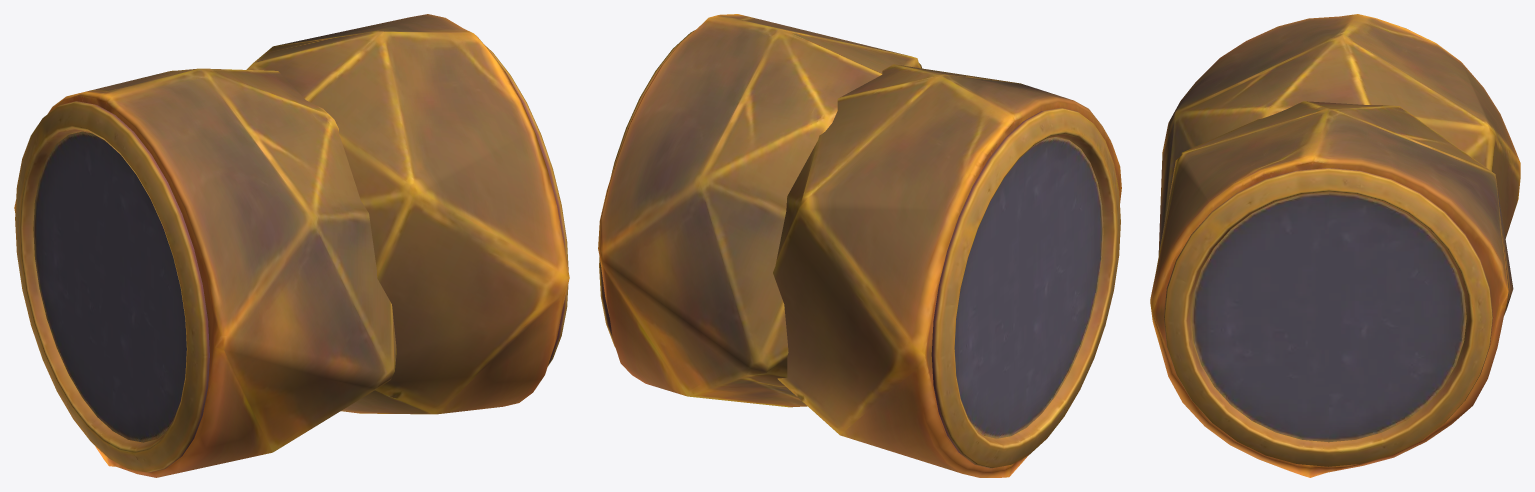
3 renders of one model, left to right at view 1: azimuth 30°, elevation 25°; view 2: azimuth 150°, elevation 25°; view 3: azimuth 270°, elevation 25°, orthographic. The views are drawn at different scales.
Parts seen in each view (by area): view 1: SM_Vault_Mirror_Double_Crystal_Lens_01_LOD0; view 2: SM_Vault_Mirror_Double_Crystal_Lens_01_LOD0; view 3: SM_Vault_Mirror_Double_Crystal_Lens_01_LOD0.
Part boxes in pixels (<box>): SM_Vault_Mirror_Double_Crystal_Lens_01_LOD0: <box>14,14,569,477</box>; SM_Vault_Mirror_Double_Crystal_Lens_01_LOD0: <box>598,14,1121,477</box>; SM_Vault_Mirror_Double_Crystal_Lens_01_LOD0: <box>1150,14,1520,477</box>.
Bounding box in the file's own units: 0.6409 × 0.6398 × 0.6426.
Materials: 1 (1 with a texture image).
